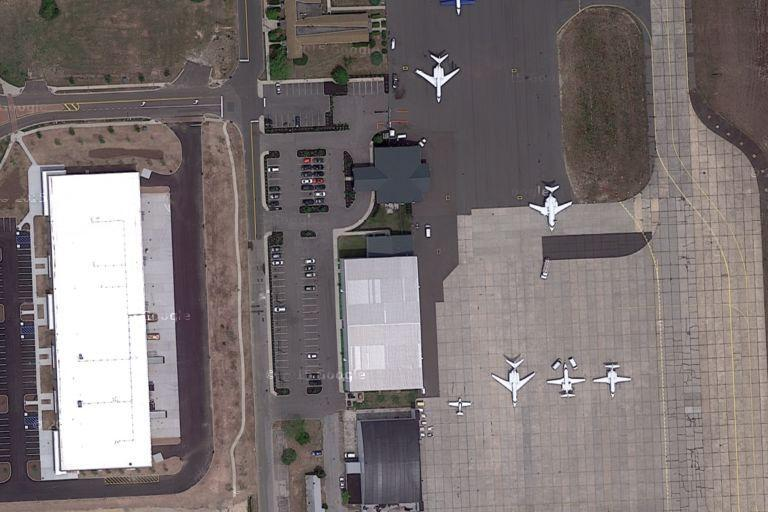A-10: (542, 361, 587, 404), (592, 357, 633, 397)
plane: (489, 354, 542, 406), (412, 50, 460, 102), (530, 179, 575, 233)
